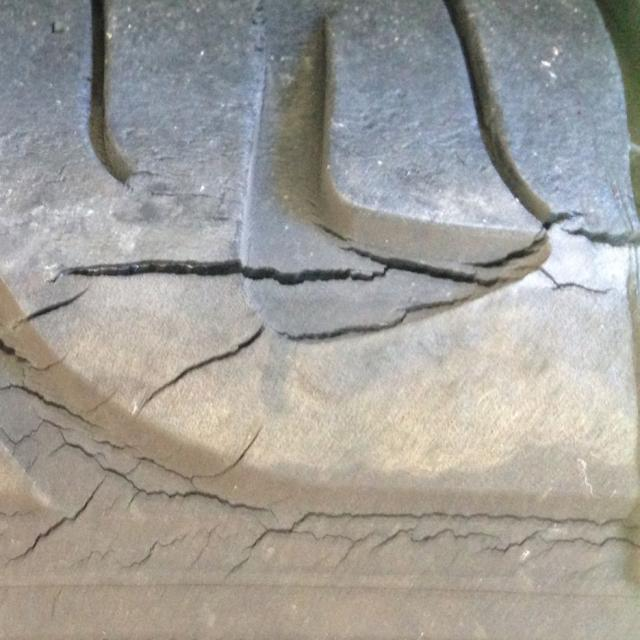Cracks: (0, 154, 640, 626)
